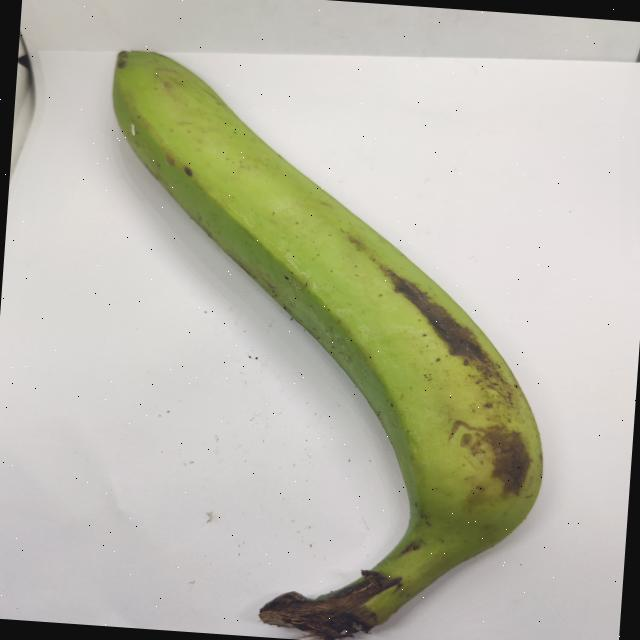Raw: (34, 28, 632, 640)
